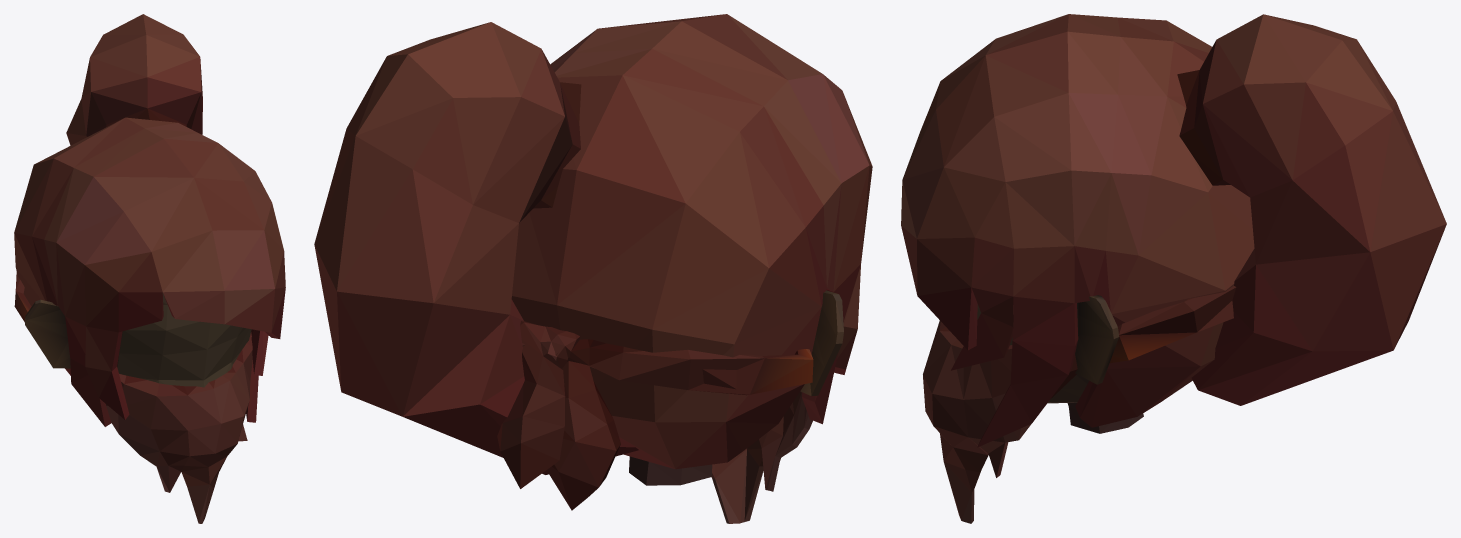
File: helm_darkskin_ponytail_red_bandana.fbx
3 views of the same model, side by side, from view 1: azimuth 30°, elevation 25°; view 2: azimuth 150°, elevation 25°; view 3: azimuth 270°, elevation 25° (orthographic). The views are drawn at different scales.
Parts seen in each view (by area): view 1: helm_darkskin_ponytail_red_bandana; view 2: helm_darkskin_ponytail_red_bandana; view 3: helm_darkskin_ponytail_red_bandana.
Part boxes in pixels (<box>): helm_darkskin_ponytail_red_bandana: <box>14,14,285,523</box>; helm_darkskin_ponytail_red_bandana: <box>314,14,872,523</box>; helm_darkskin_ponytail_red_bandana: <box>901,14,1446,523</box>.
Bounding box in the file's own units: 1.21 × 1.8 × 1.64.
